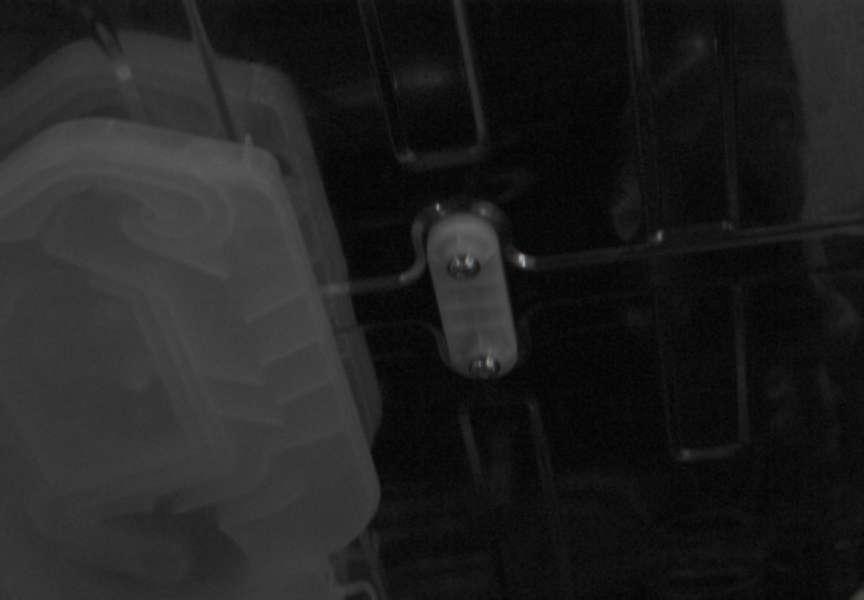screw: (447, 254, 481, 280), (468, 355, 500, 380)
